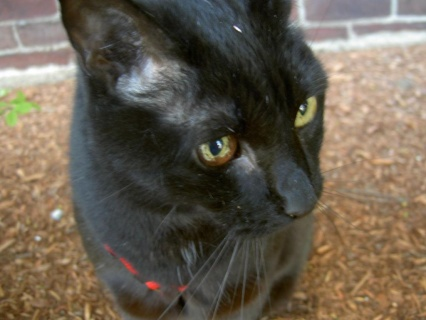Cat: (54, 0, 330, 319)
